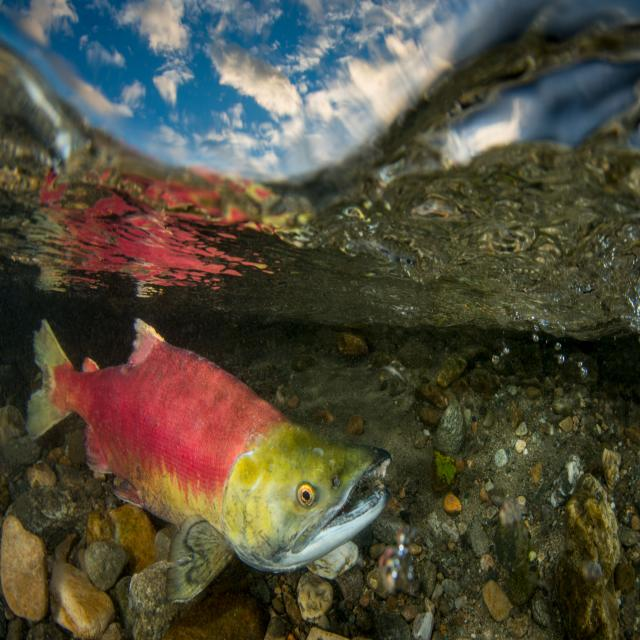salmon: (21, 288, 410, 618)
